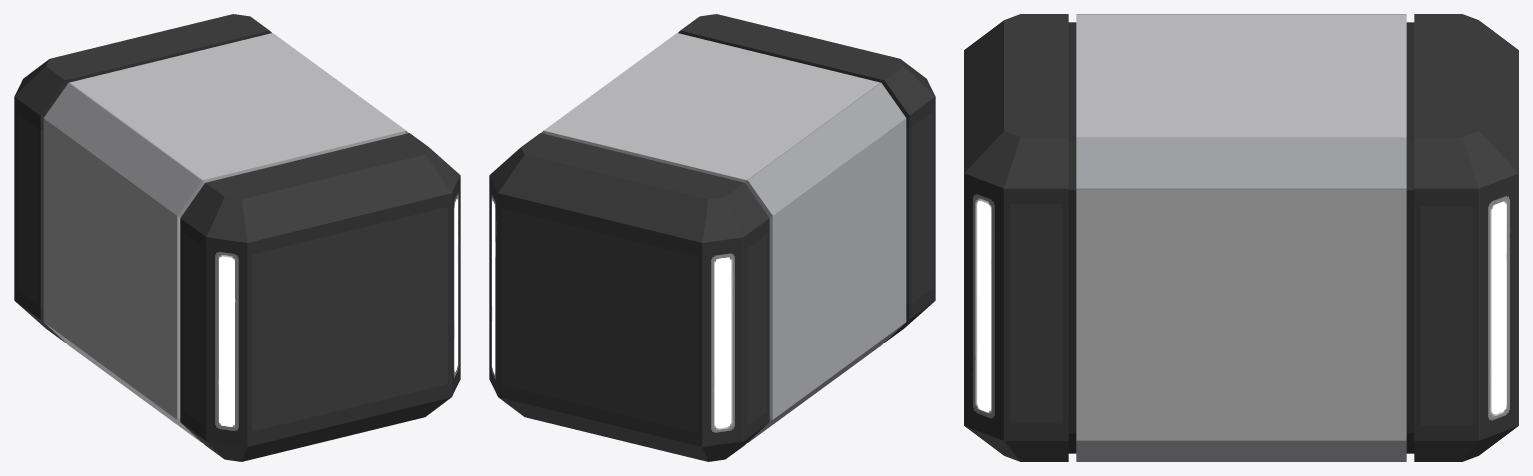
File: Crate.fbx
3 views of the same model, side by side, from view 1: azimuth 30°, elevation 25°; view 2: azimuth 150°, elevation 25°; view 3: azimuth 270°, elevation 25° (orthographic). The views are drawn at different scales.
Visible parts, largest first — view 1: Crate; view 2: Crate; view 3: Crate.
Boxes of the visible parts, <box> form: Crate: <box>14,14,460,461</box>; Crate: <box>489,14,935,461</box>; Crate: <box>964,14,1518,461</box>.
Bounding box in the file's own units: 98.12 × 96.88 × 150.
